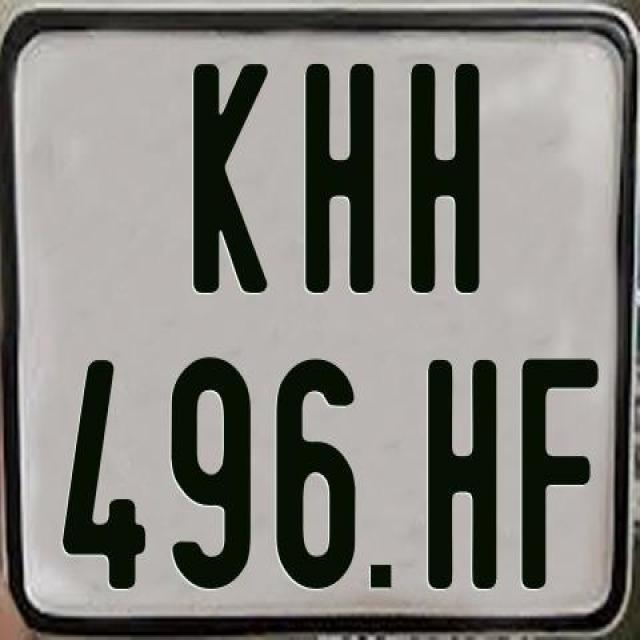4: (59, 360, 142, 597)
6: (272, 357, 354, 590)
9: (168, 357, 254, 596)
F: (518, 353, 602, 588)
H: (428, 357, 504, 592), (305, 59, 380, 288), (408, 60, 480, 298)
K: (192, 59, 270, 291)
